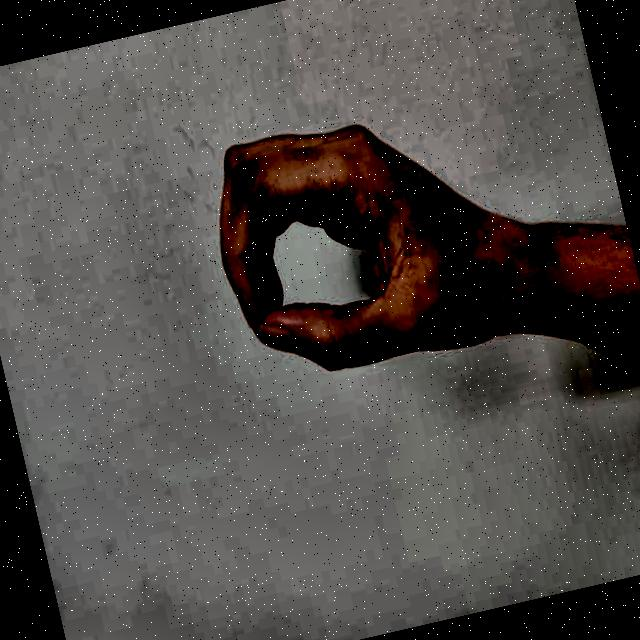O: (174, 68, 526, 431)
